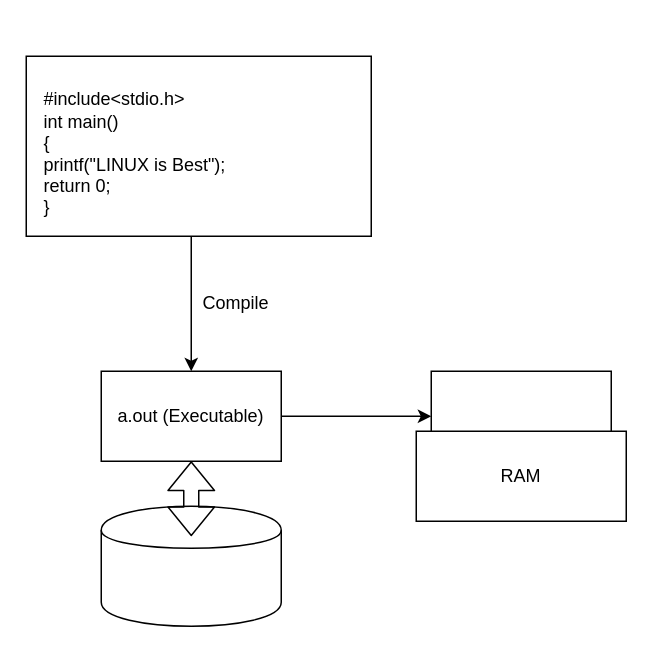
This 653x653 diagram has some shape labels left out. The centre of each missing label's shape, as x and y in pixels:
"Hard disk" belongs at point 190,565.
"Process" belongs at point 520,415.
